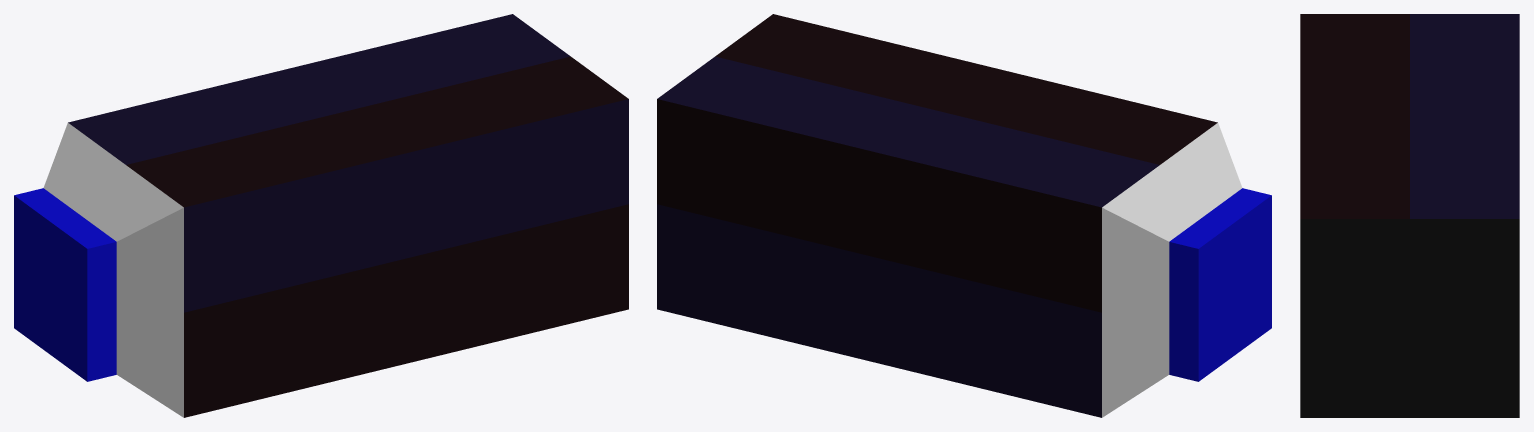
Rendered from Builder2.obj.
3 views of the same model, side by side, from view 1: azimuth 30°, elevation 25°; view 2: azimuth 150°, elevation 25°; view 3: azimuth 270°, elevation 25° (orthographic). The views are drawn at different scales.
Visible parts, largest first — view 1: Cube.003_Cube.004; view 2: Cube.003_Cube.004; view 3: Cube.003_Cube.004.
Boxes of the visible parts, x1=… form: Cube.003_Cube.004: x1=14, y1=14, x2=628, y2=417; Cube.003_Cube.004: x1=657, y1=14, x2=1271, y2=417; Cube.003_Cube.004: x1=1300, y1=14, x2=1519, y2=417.
Bounding box in the file's own units: 2.22 × 0.8575 × 0.8575.
